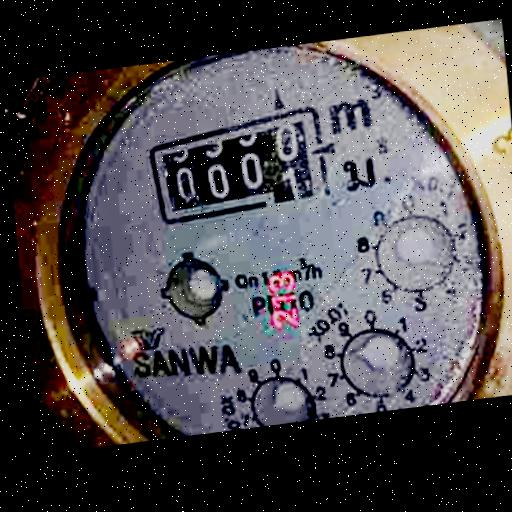0: (265, 115, 315, 206), (160, 145, 207, 213), (196, 137, 241, 206), (229, 129, 273, 199)
border_water_meter_number: (145, 101, 334, 232)
